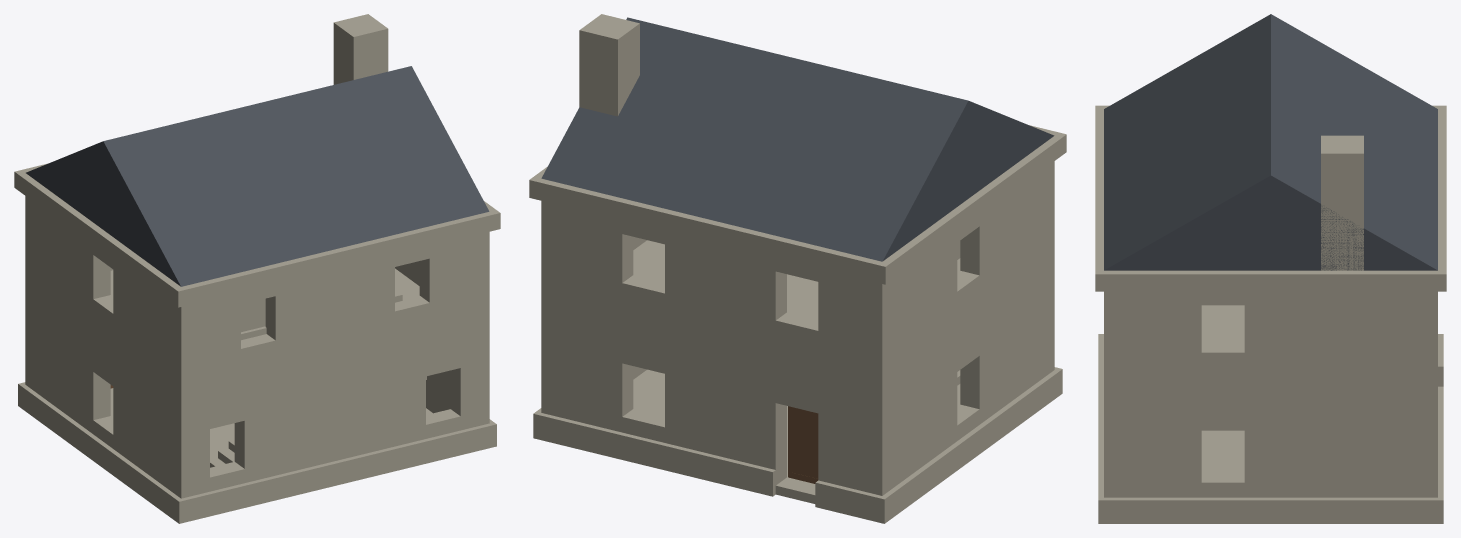
The picture shows the model from 3 angles, left to right: view 1: azimuth 30°, elevation 25°; view 2: azimuth 150°, elevation 25°; view 3: azimuth 270°, elevation 25°; orthographic projection. The views are drawn at different scales.
Parts seen in each view (by area): view 1: body_stone, roof_slate, trim_stone, roof_stone; view 2: body_stone, roof_slate, trim_stone, door_timber, roof_stone; view 3: body_stone, roof_slate, trim_stone, roof_stone.
Part boxes in pixels (x1=…): body_stone: x1=25, y1=27, x2=489, y2=498; roof_slate: x1=26, y1=66, x2=489, y2=286; trim_stone: x1=14, y1=163, x2=500, y2=523; roof_stone: x1=333, y1=14, x2=388, y2=40; body_stone: x1=541, y1=28, x2=1054, y2=503; roof_slate: x1=541, y1=17, x2=1054, y2=261; trim_stone: x1=529, y1=125, x2=1066, y2=523; door_timber: x1=788, y1=406, x2=818, y2=483; roof_stone: x1=579, y1=14, x2=639, y2=43; body_stone: x1=1104, y1=158, x2=1437, y2=497; roof_slate: x1=1104, y1=14, x2=1437, y2=270; trim_stone: x1=1095, y1=105, x2=1446, y2=523; roof_stone: x1=1321, y1=135, x2=1363, y2=157.
Size of what is drawn, in the model's own units: 8.36 by 8.5 by 7.36.
